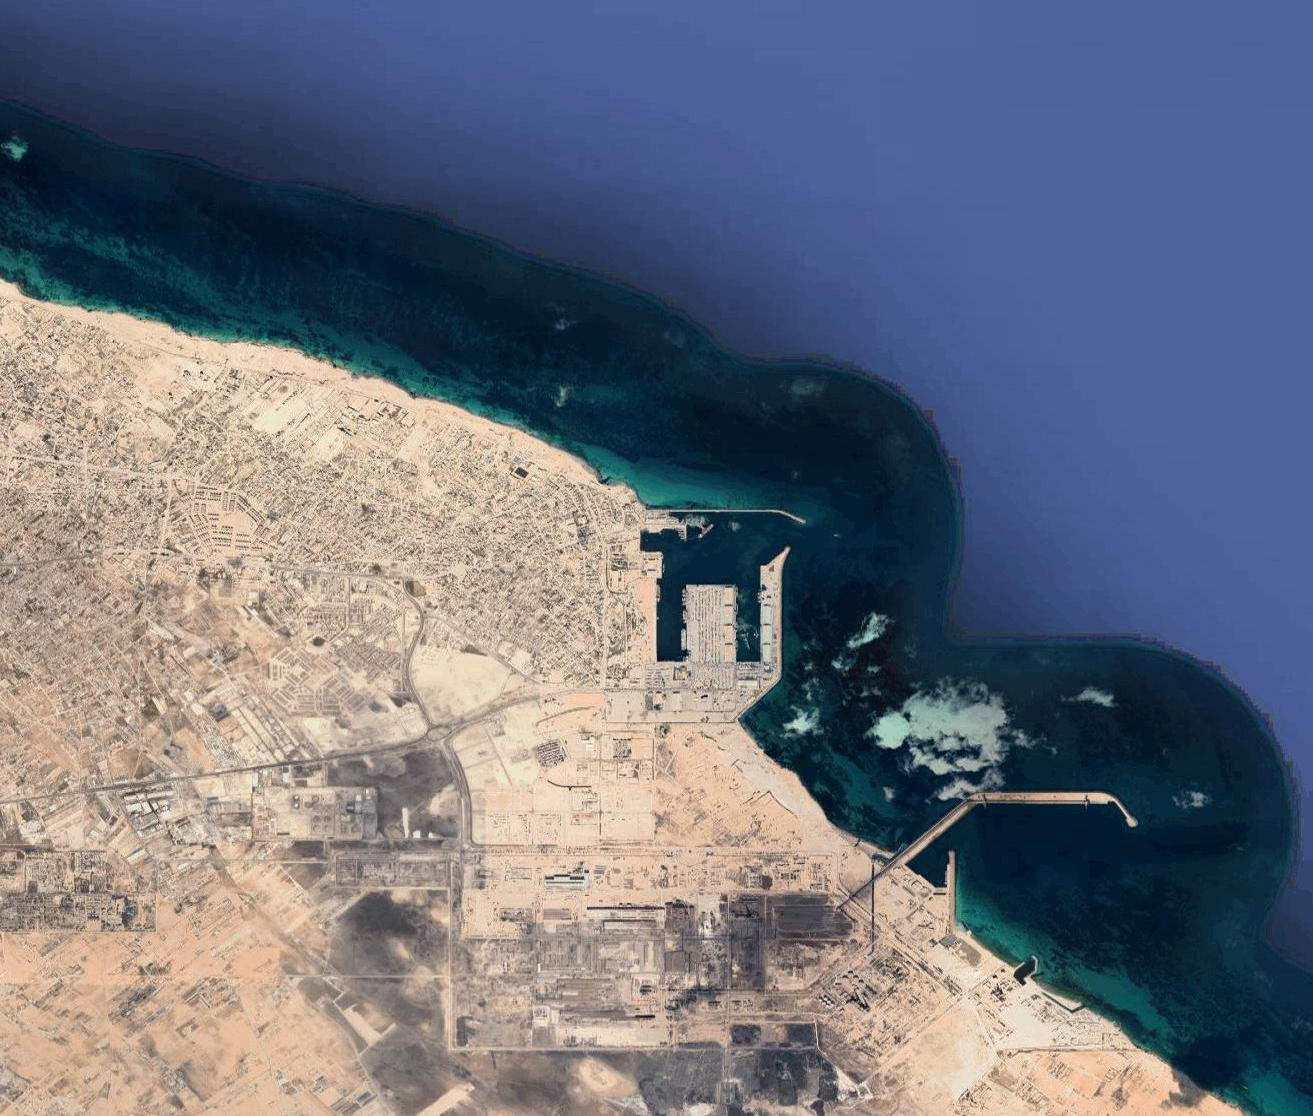harbor: (633, 496, 809, 684)
